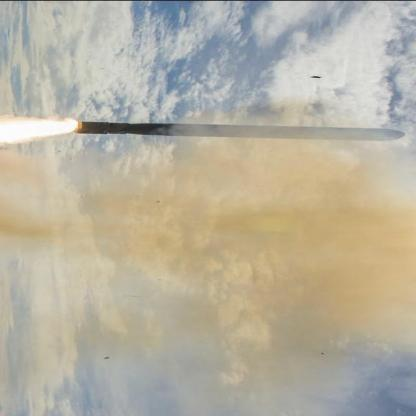MIL_TBM: (67, 118, 403, 144)
